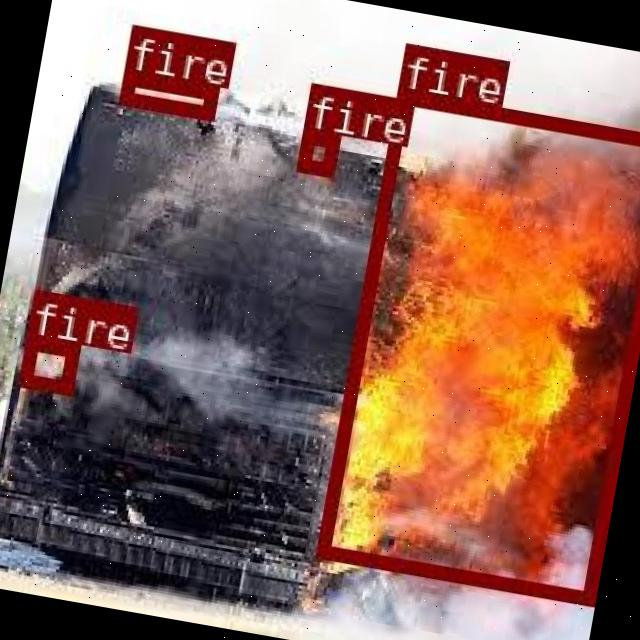fire: (315, 87, 640, 600), (116, 68, 214, 116), (18, 334, 78, 390), (294, 126, 337, 172)
